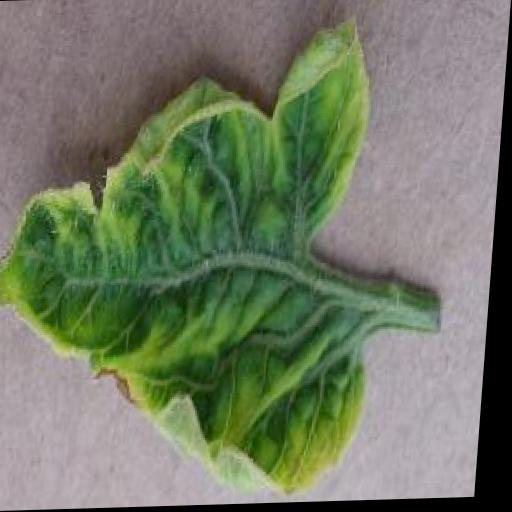Yellow Leaf Curl Virus: (0, 7, 398, 505)
